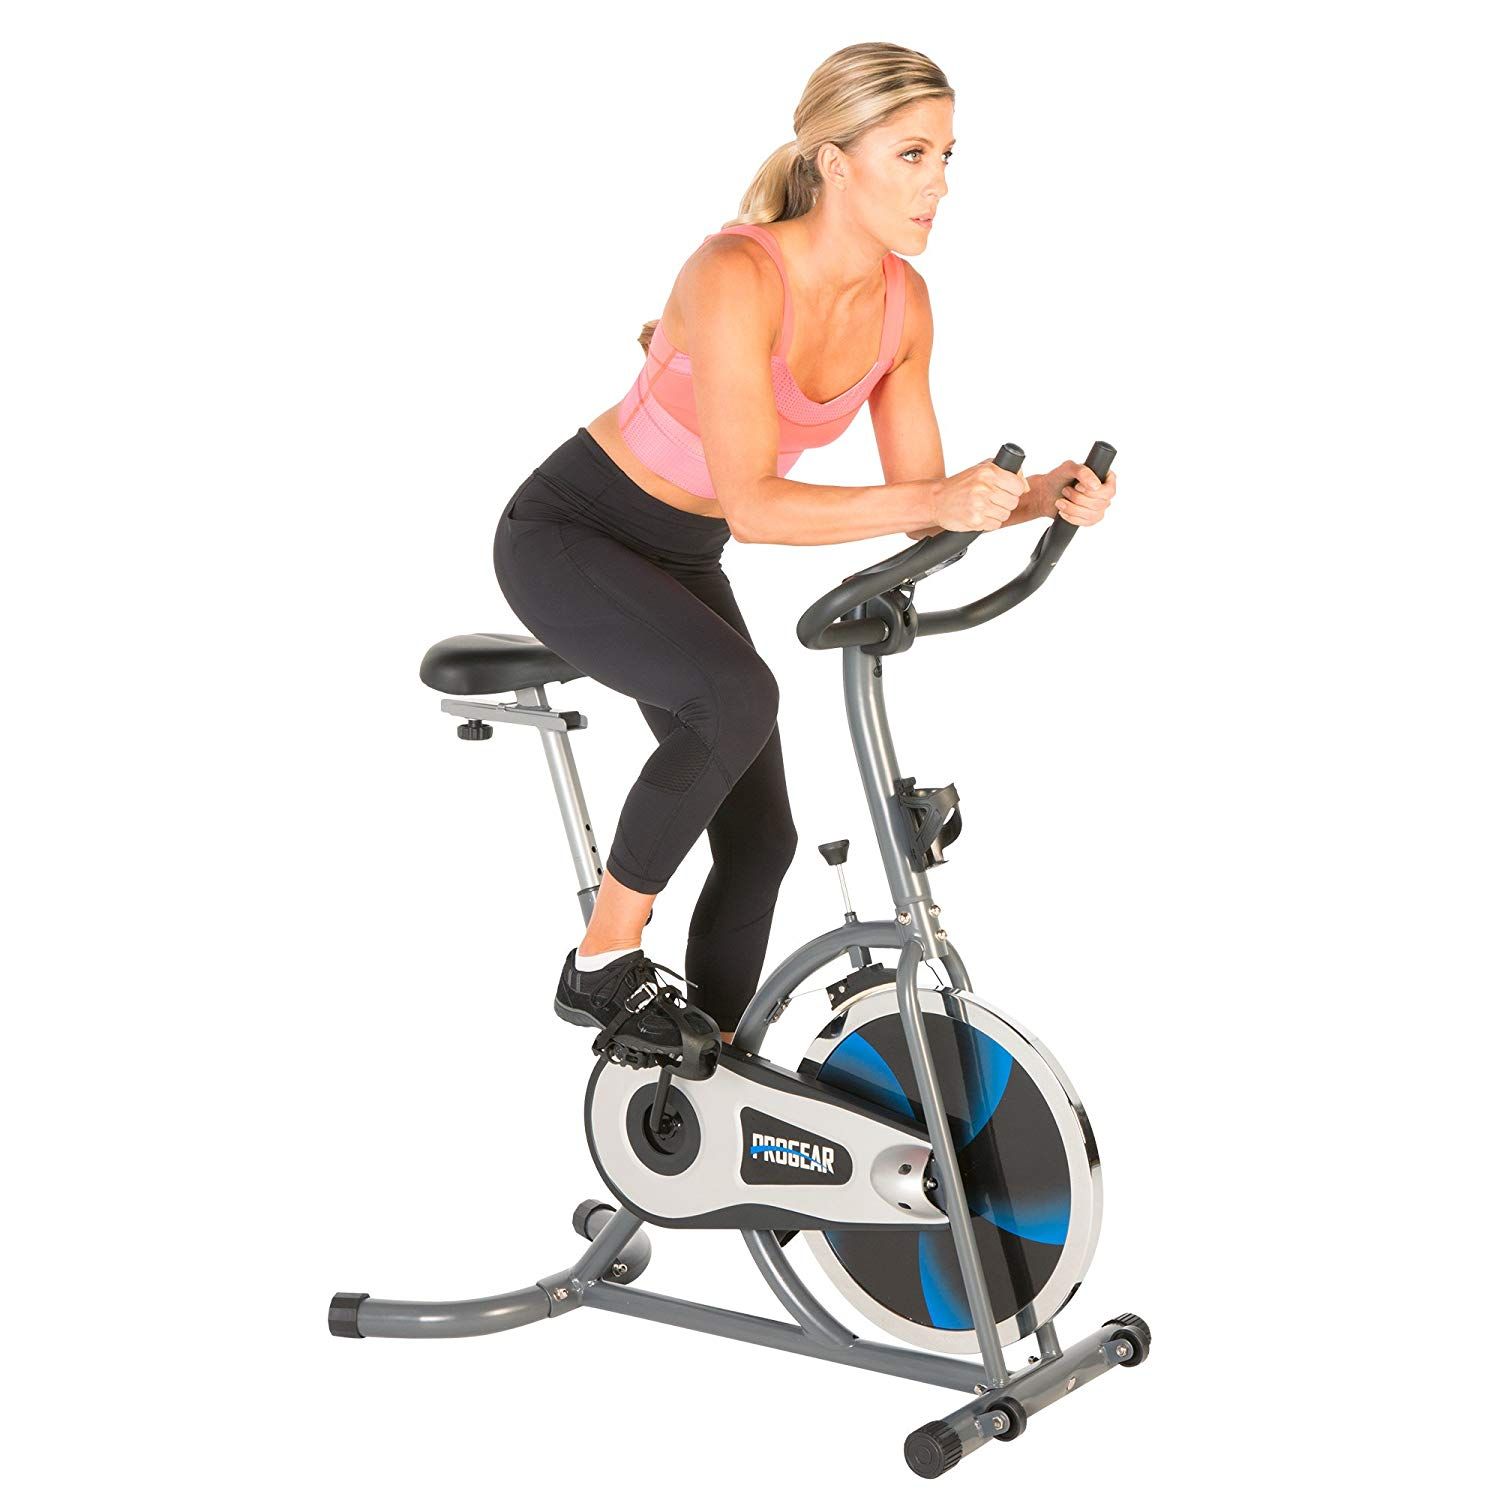gym_bike: (302, 413, 1195, 1473)
